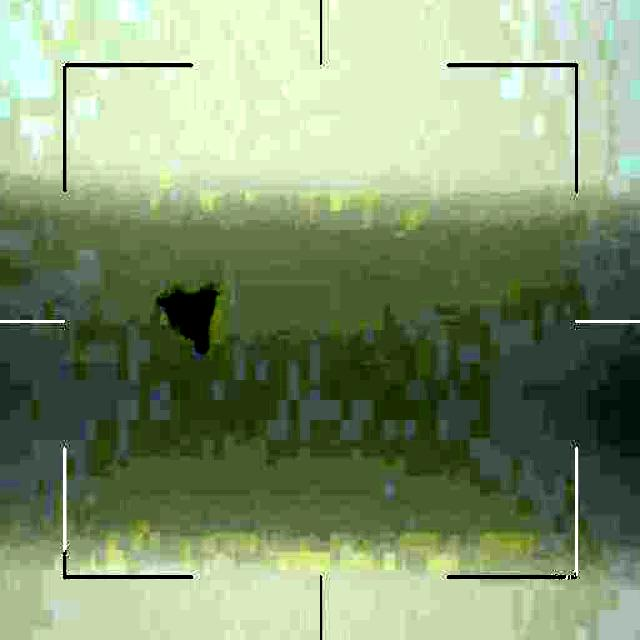bird: (154, 284, 222, 356)
